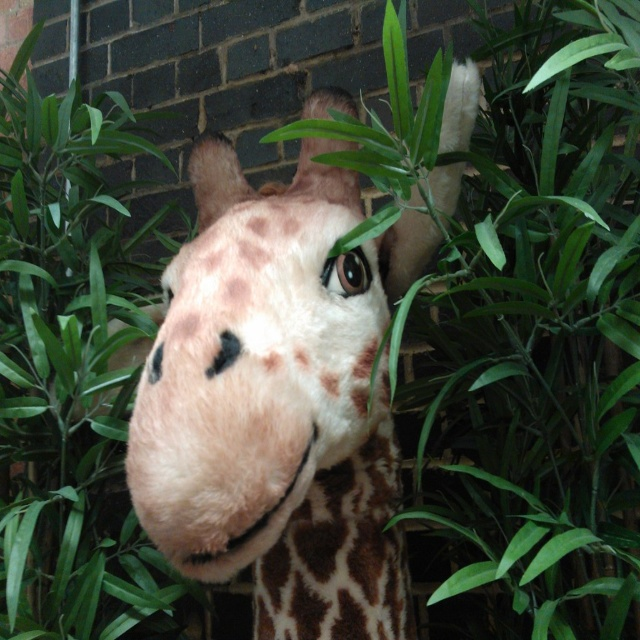Giraffe: (120, 69, 480, 636)
